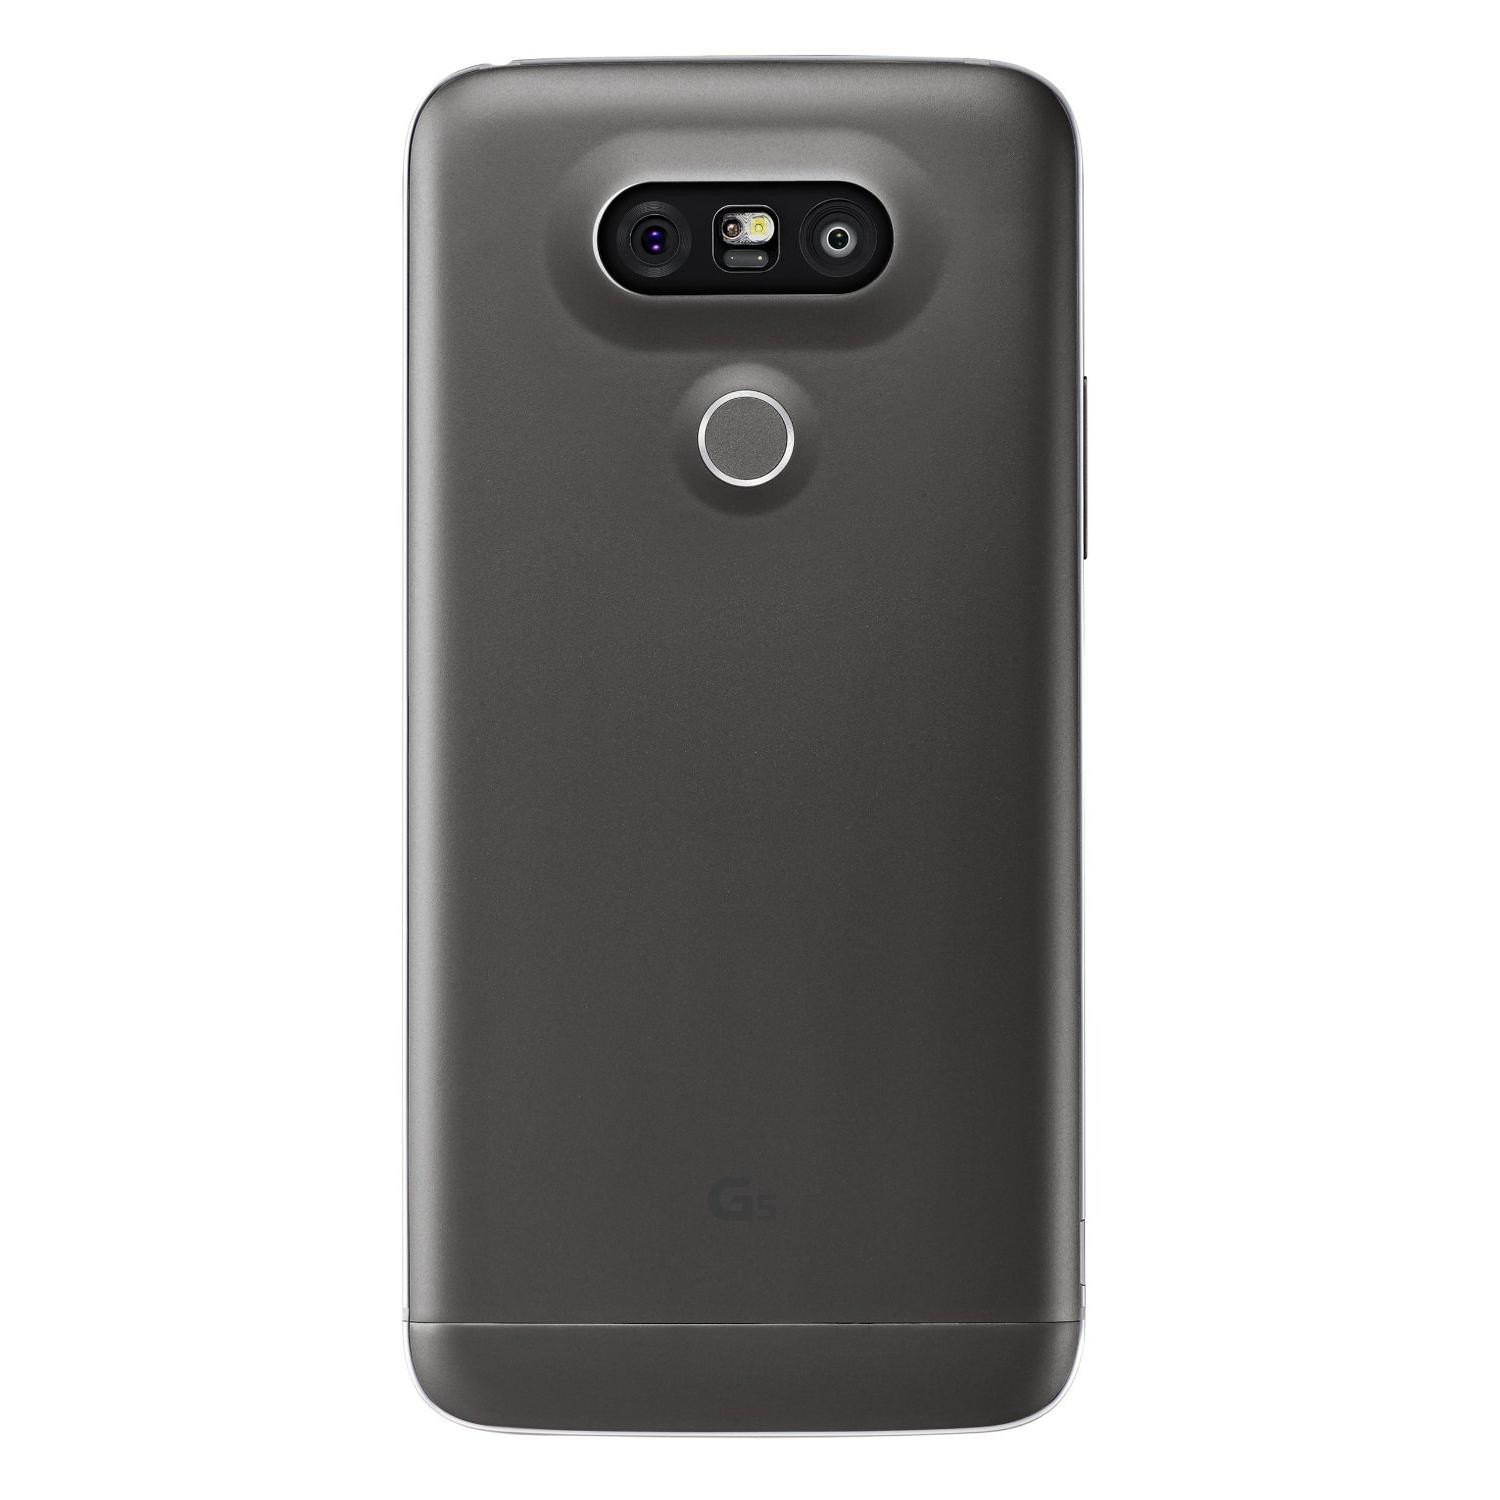smartphone: (404, 54, 1091, 1431)
